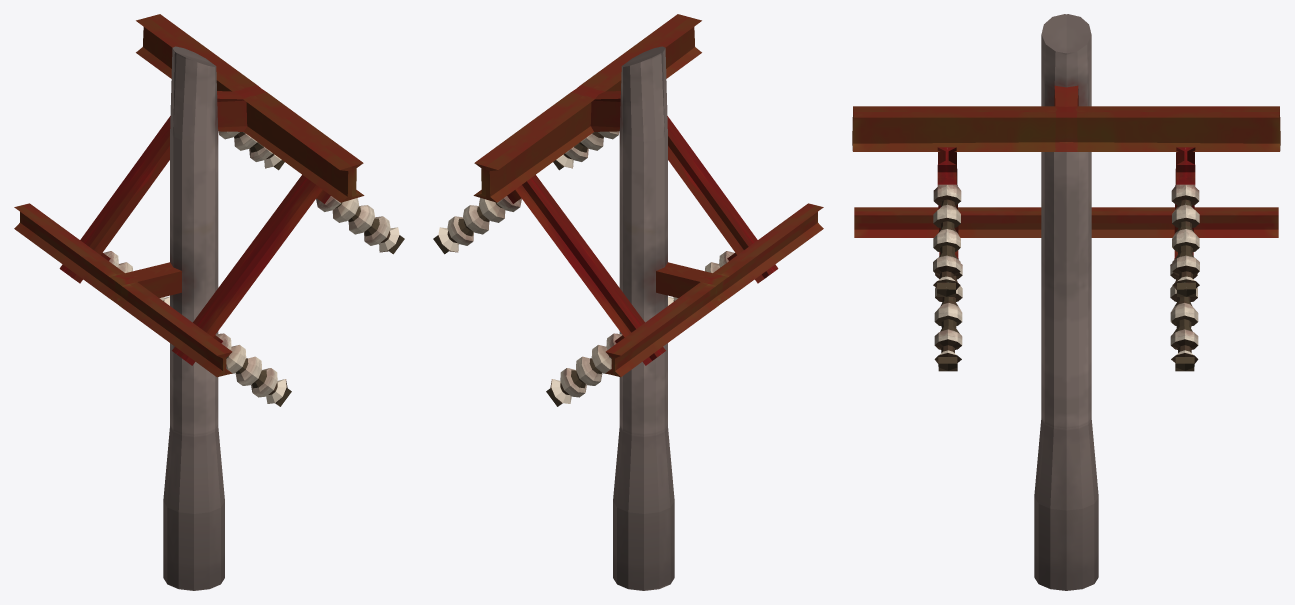
The model's file is GridBreaker_nofuse.obj.
The picture shows the model from 3 angles, left to right: view 1: azimuth 30°, elevation 25°; view 2: azimuth 150°, elevation 25°; view 3: azimuth 270°, elevation 25°; orthographic projection. The views are drawn at different scales.
Parts seen in each view (by area): view 1: main; view 2: main; view 3: main.
Part boxes in pixels (x1=…): main: x1=14, y1=14, x2=404, y2=590; main: x1=433, y1=14, x2=823, y2=590; main: x1=852, y1=14, x2=1280, y2=590.
Bounding box in the file's own units: 3.69 × 8.2 × 5.75.
2 materials, 2 textured.
